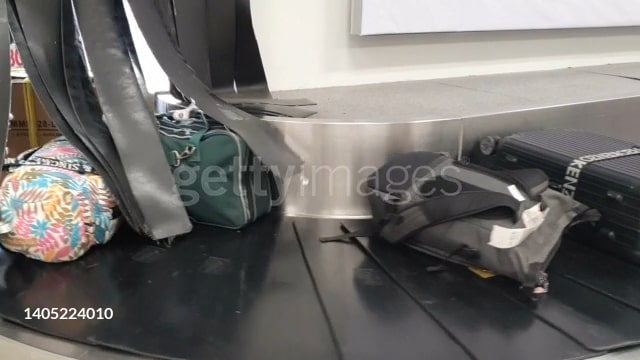baggage: (351, 151, 603, 301), (485, 127, 640, 252), (139, 112, 281, 236), (5, 133, 122, 264)
